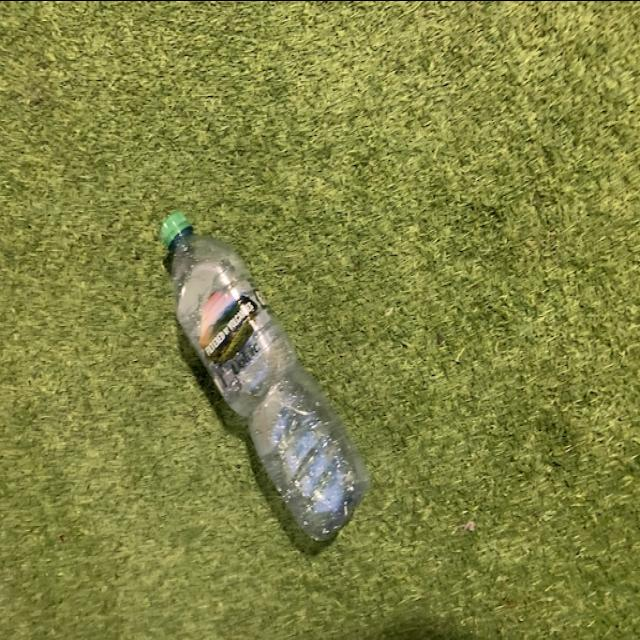PET: (156, 206, 374, 545)
